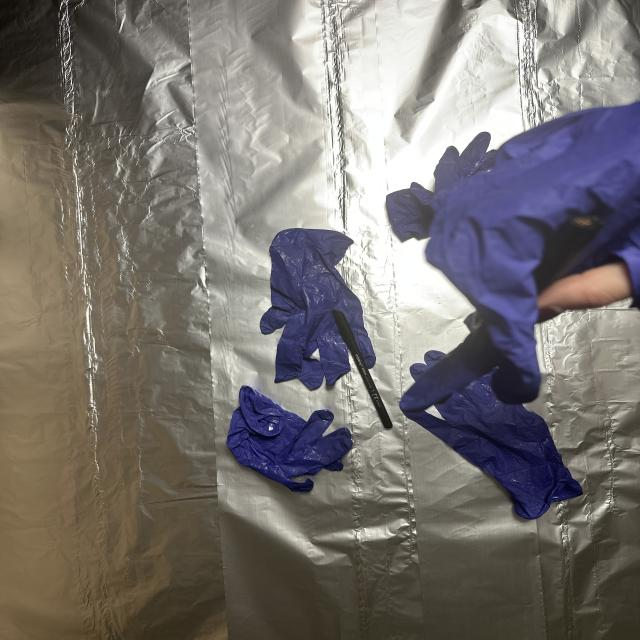glove_not_fitted: (424, 110, 640, 420)
